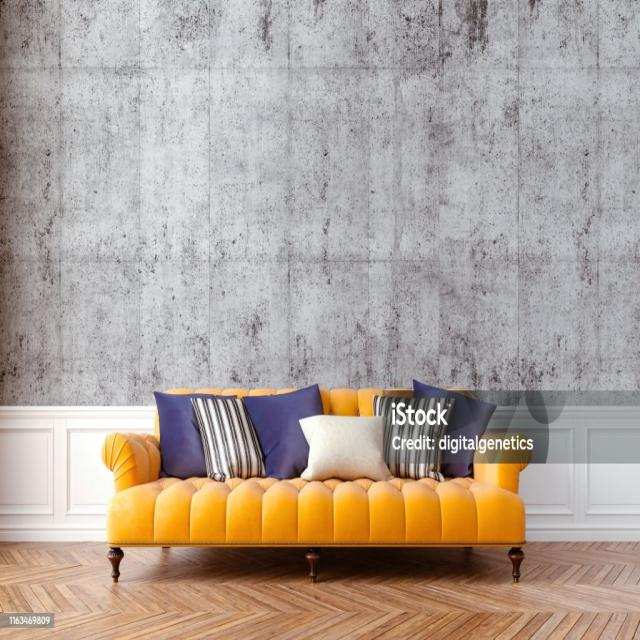stallion-sofa1: (102, 389, 530, 582)
